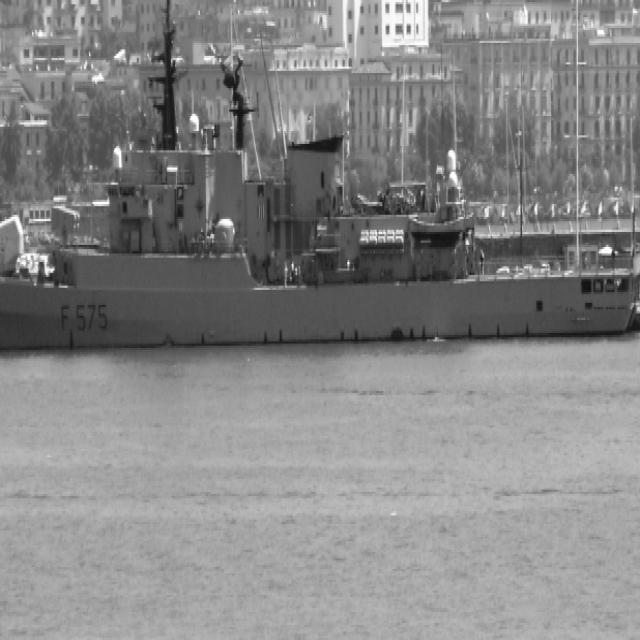Fragata: (1, 1, 640, 368)
